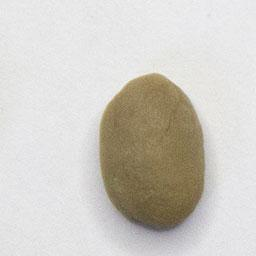premium: (96, 70, 211, 232)
